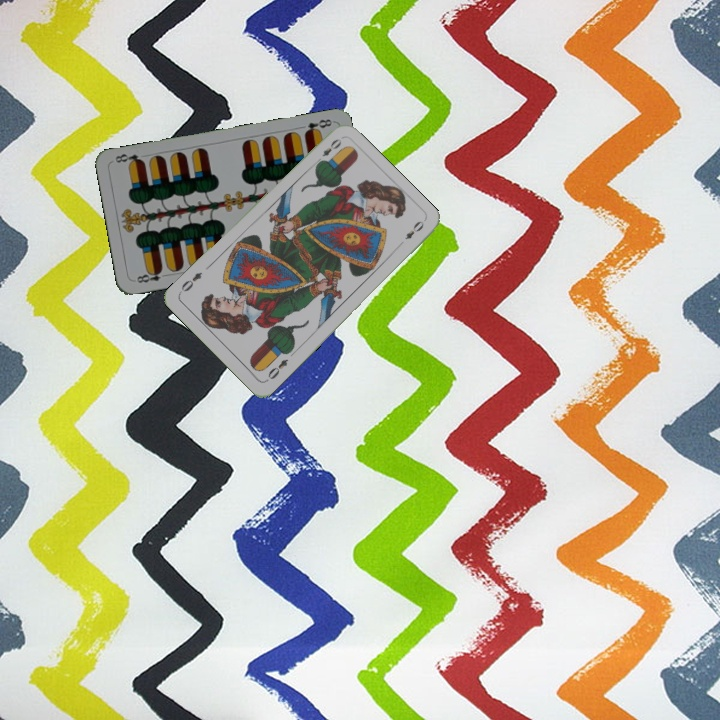E8: (133, 265, 171, 285), (301, 115, 334, 137)
EO: (311, 134, 344, 167), (262, 355, 291, 384)
